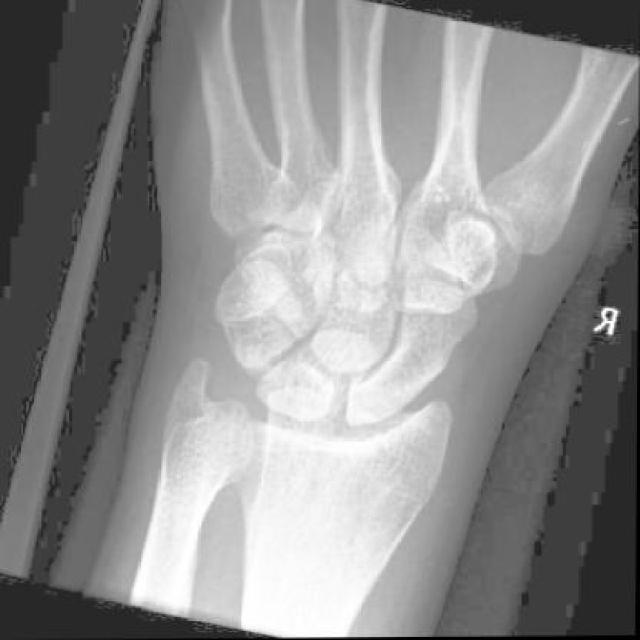Fracture: (205, 246, 317, 353)
